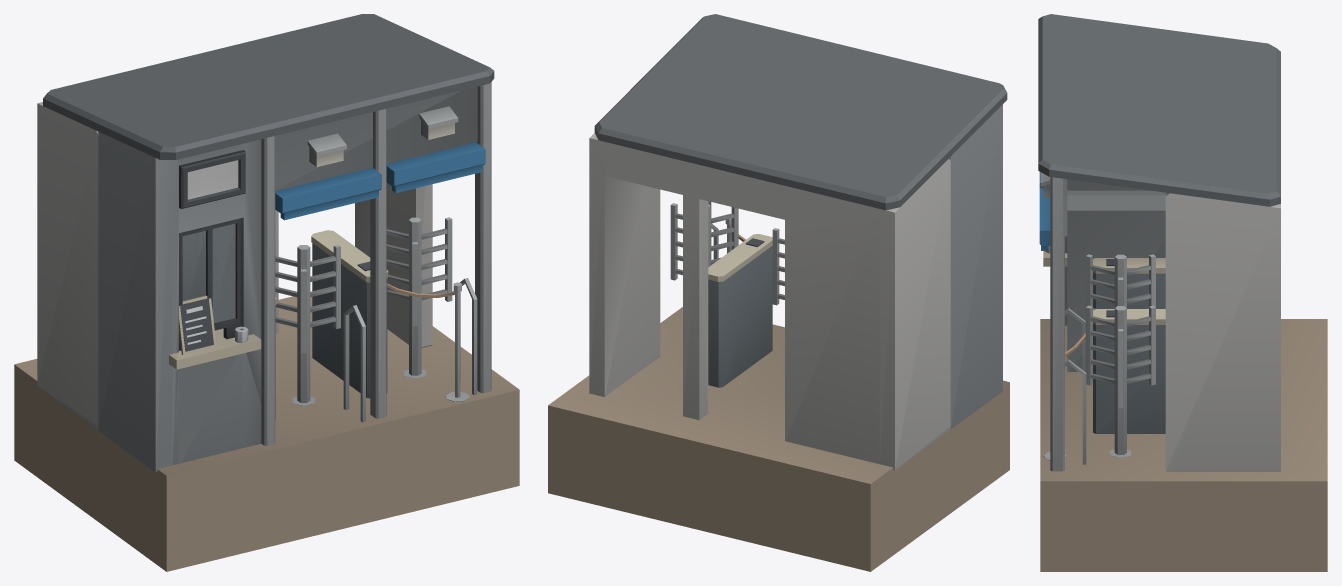
Rendered from turnstile.glb.
The picture shows the model from 3 angles, left to right: view 1: azimuth 30°, elevation 25°; view 2: azimuth 150°, elevation 25°; view 3: azimuth 270°, elevation 25°; orthographic projection. The views are drawn at different scales.
Visible parts, largest first — view 1: turnstile; view 2: turnstile; view 3: turnstile.
Part boxes in pixels (x1,y1,x2,y2): turnstile: [14, 14, 519, 571]; turnstile: [548, 14, 1009, 571]; turnstile: [1038, 14, 1327, 571].
Bounding box in the file's own units: 3.98 × 4.52 × 2.98.
